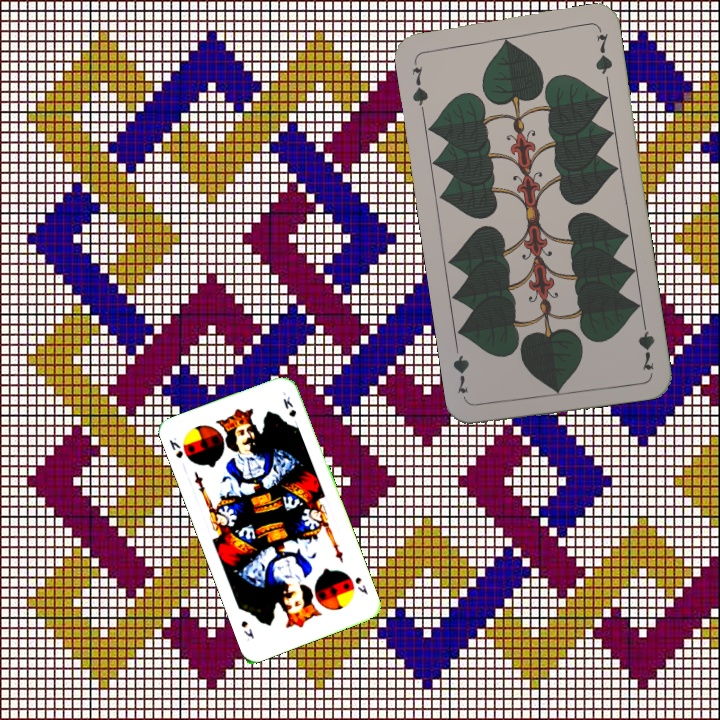G7: (634, 314, 658, 373), (407, 55, 431, 114)
SK: (165, 433, 186, 461), (351, 573, 370, 597)
